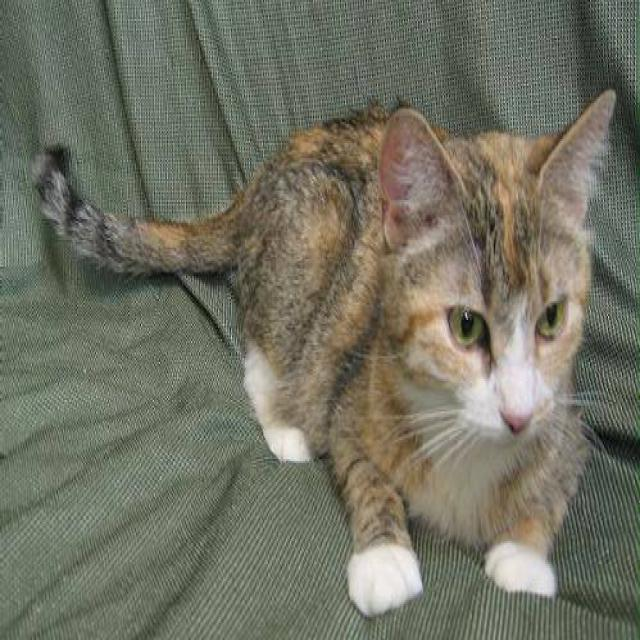cat: (31, 86, 617, 617)
